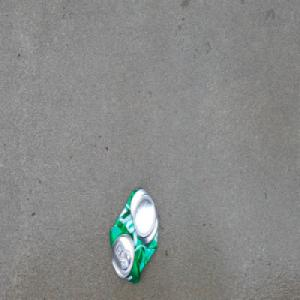SodaCan: (107, 184, 159, 285)
